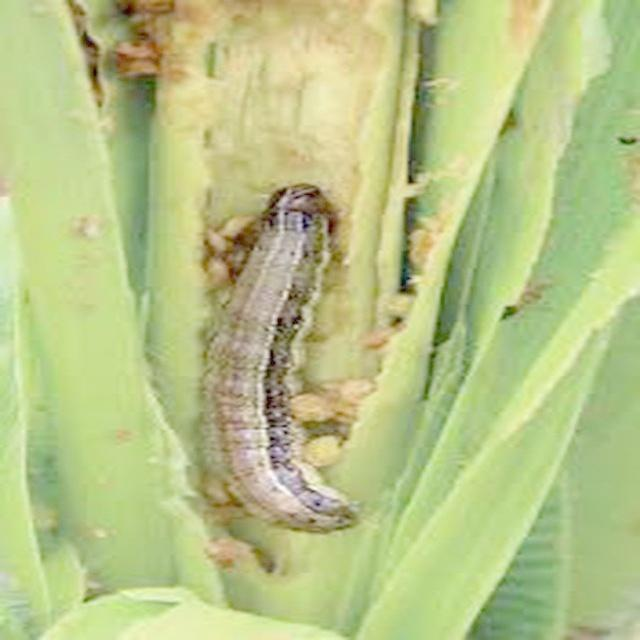gusano_cogollero: (202, 179, 376, 540)
